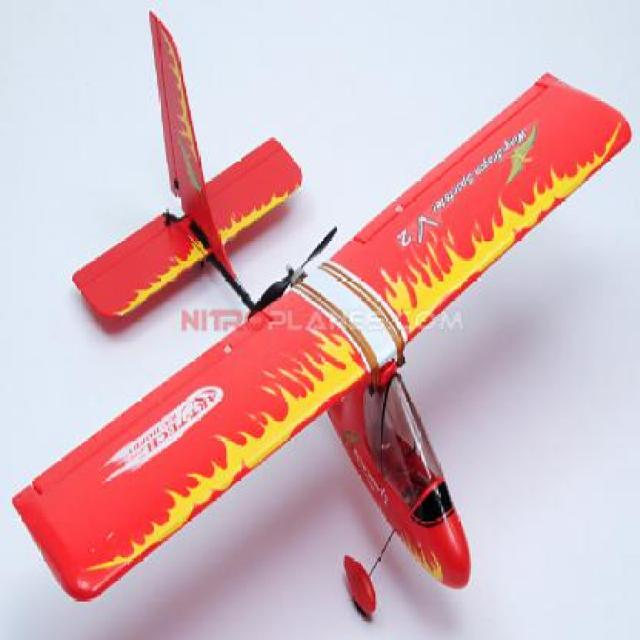iha: (15, 15, 629, 613)
